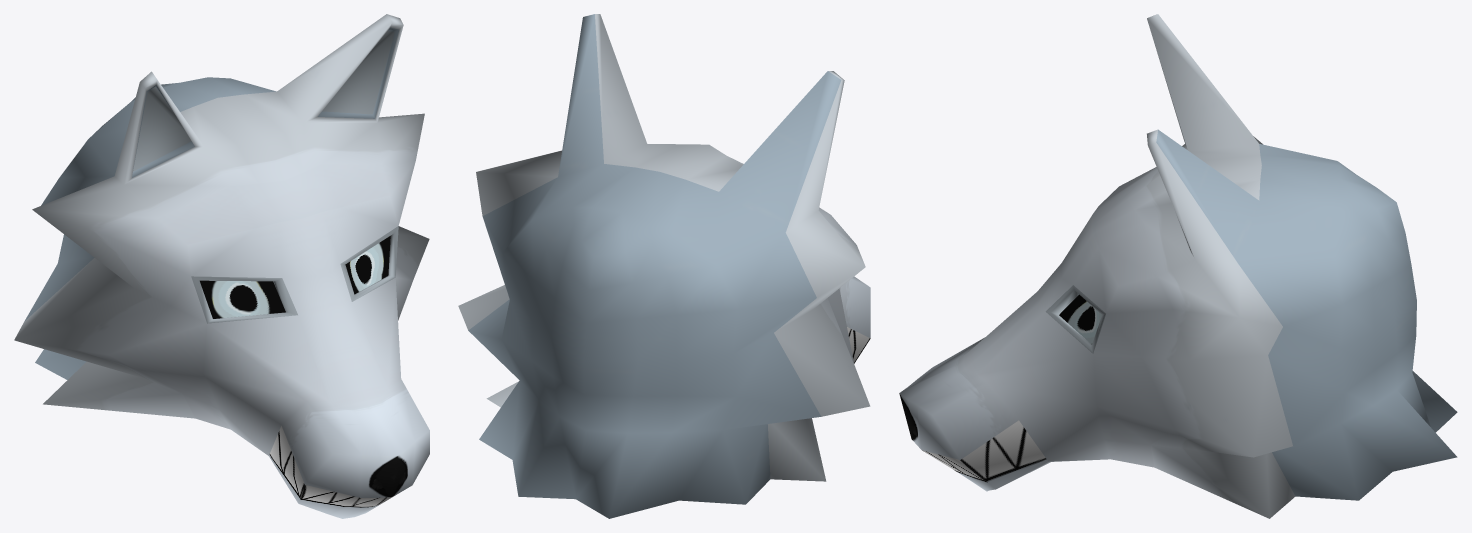
The model's file is wolf.fbx.
The picture shows the model from 3 angles, left to right: view 1: azimuth 30°, elevation 25°; view 2: azimuth 150°, elevation 25°; view 3: azimuth 270°, elevation 25°; orthographic projection.
Parts seen in each view (by area): view 1: Cube; view 2: Cube; view 3: Cube.
Part boxes in pixels (x1,y1,x2,y2): Cube: [14, 14, 429, 518]; Cube: [458, 14, 870, 518]; Cube: [899, 14, 1457, 518].
Bounding box in the file's own units: 2.14 × 2.03 × 2.47.
2 materials, 2 textured.
